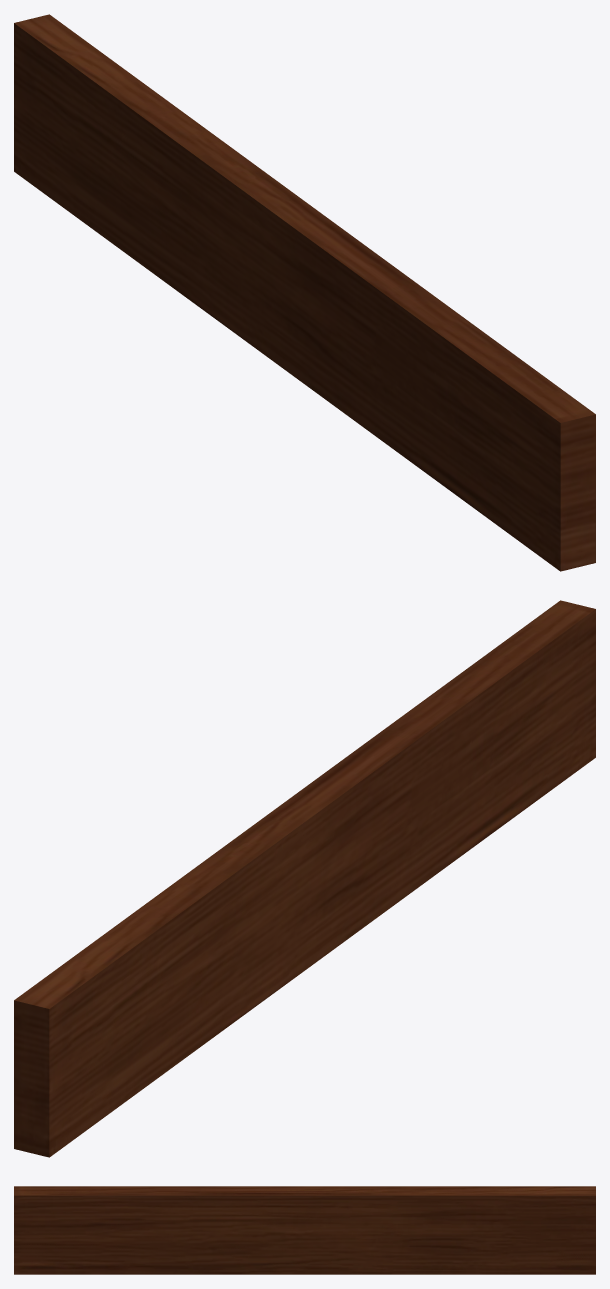
The model's file is link_3__drawer_side-19.glb.
The picture shows the model from 3 angles, top to bottom: view 1: azimuth 30°, elevation 25°; view 2: azimuth 150°, elevation 25°; view 3: azimuth 270°, elevation 25°; orthographic projection. The views are drawn at different scales.
Parts seen in each view (by area): view 1: geometry_0; view 2: geometry_0; view 3: geometry_0.
Boxes of the visible parts, x1,y1,x2,y2 form: geometry_0: (14, 14, 595, 571); geometry_0: (14, 600, 595, 1157); geometry_0: (14, 1186, 595, 1274).
Bounding box in the file's own units: 0.027 × 0.1079 × 0.7191.
Materials: 1 (1 with a texture image).
